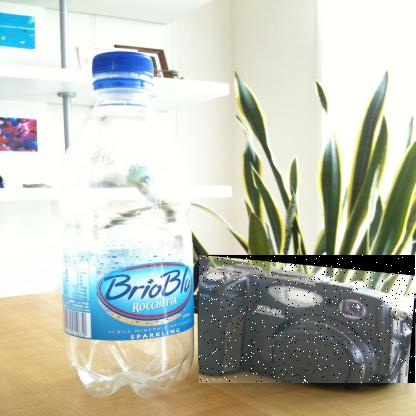Camera: (200, 256, 416, 385)
